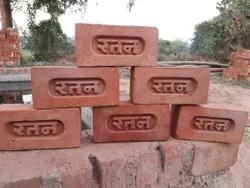brick: (32, 67, 120, 110), (76, 22, 160, 67), (1, 110, 81, 152), (132, 66, 212, 104), (92, 104, 171, 142), (176, 104, 248, 143)
